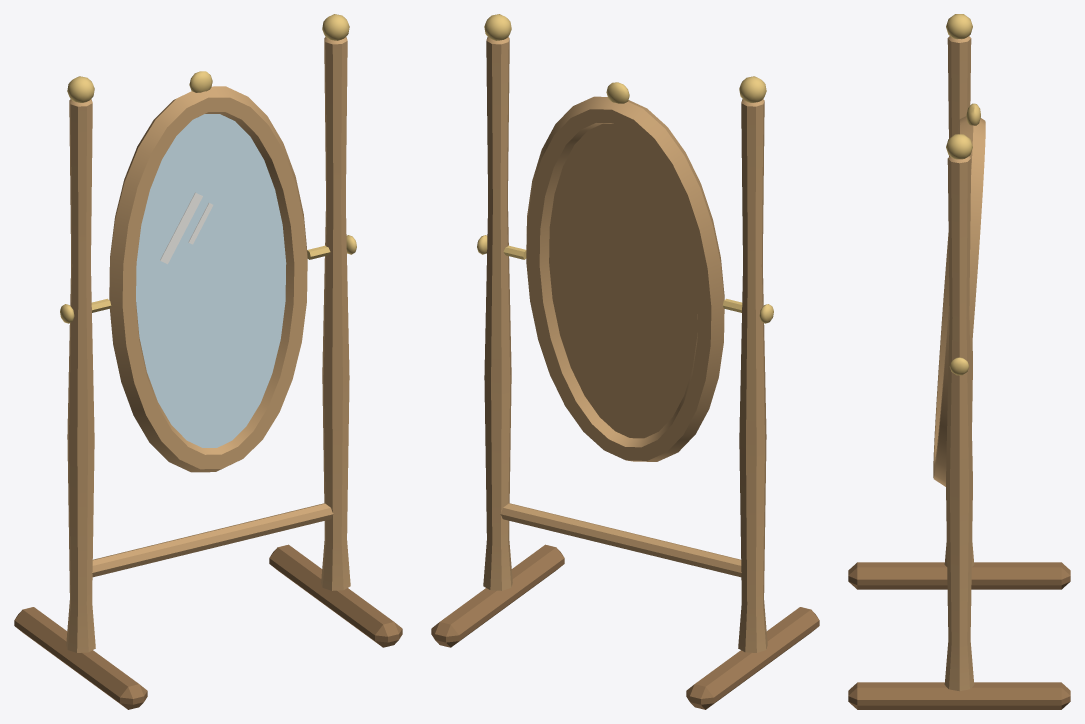
File: furn_mirror.glb
3 views of the same model, side by side, from view 1: azimuth 30°, elevation 25°; view 2: azimuth 150°, elevation 25°; view 3: azimuth 270°, elevation 25° (orthographic). The views are drawn at different scales.
Visible parts, largest first — view 1: furn_mirror_body; view 2: furn_mirror_body; view 3: furn_mirror_body.
Part boxes in pixels (left/top/right/bottom): furn_mirror_body: left=14, top=14, right=402, bottom=709; furn_mirror_body: left=431, top=14, right=819, bottom=709; furn_mirror_body: left=848, top=14, right=1070, bottom=709.
Bounding box in the file's own units: 0.5283 × 1.02 × 0.36.
